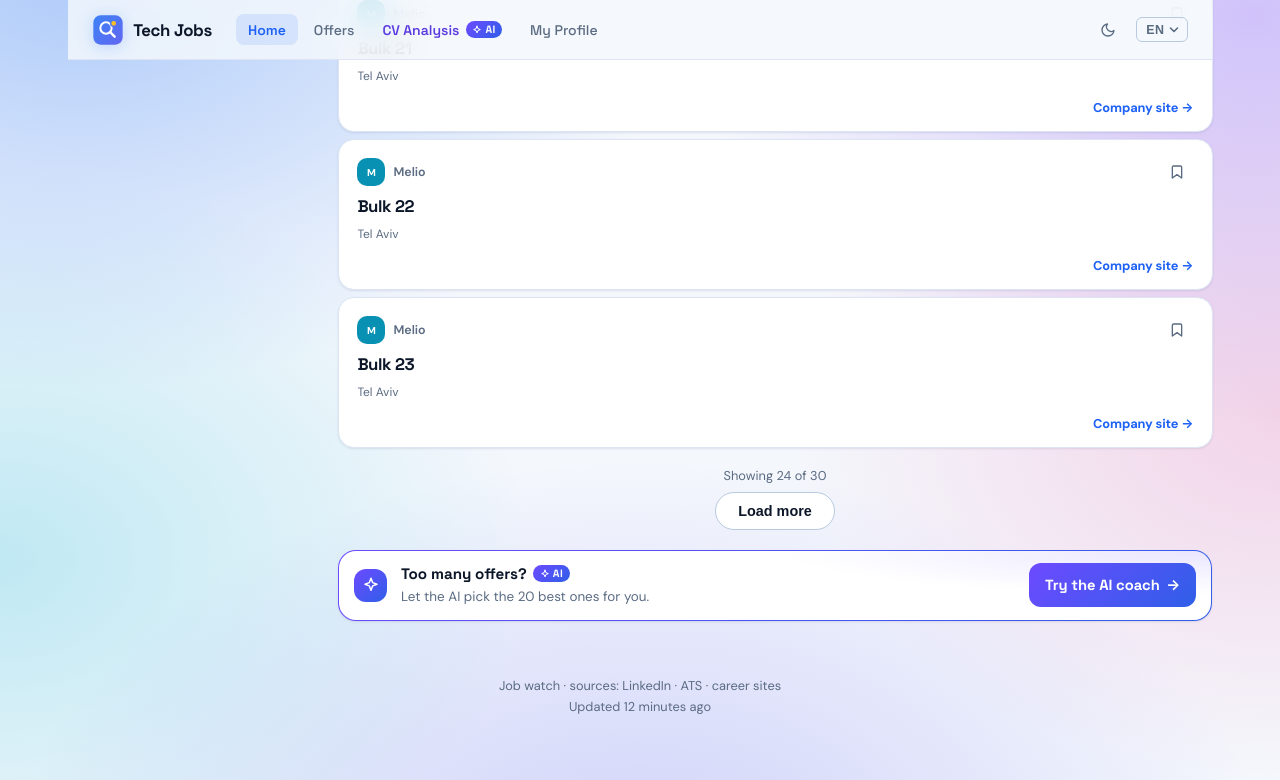
Test: JobsPage (integration) › paginates with 'Load more'
The image size is (1280, 780).
(page scrolled)
Expected: the text "Showing 24 of 30" is shown, top-left (724, 468), bottom-right (826, 485)
Click the button "Load more": x=775, y=511 top-left (715, 493), bottom-right (835, 530)
(page scrolled)
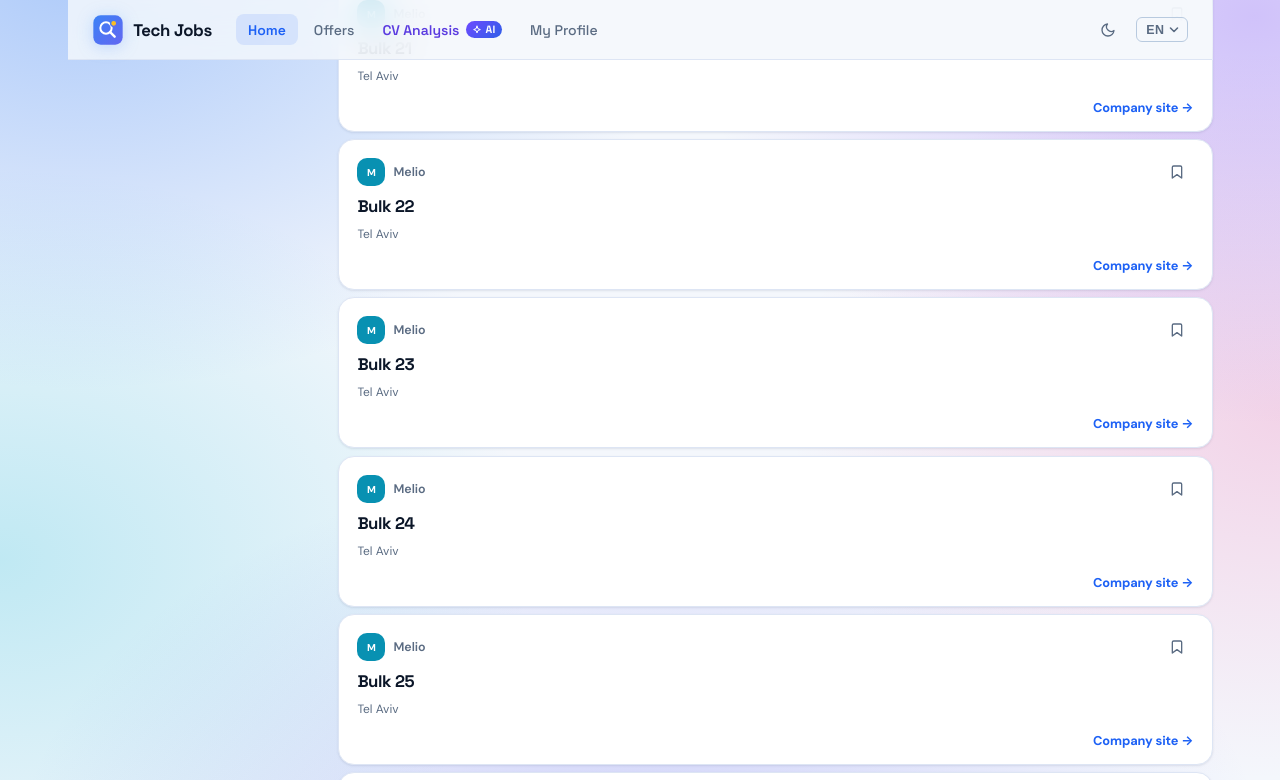
Now the button "Load more" is gone
